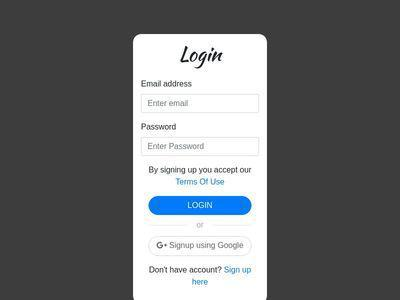button: (149, 236, 253, 257), (150, 196, 254, 216)
input: (140, 138, 260, 157), (142, 96, 260, 115)
label: (179, 44, 226, 69), (140, 79, 195, 91), (142, 121, 181, 134)
